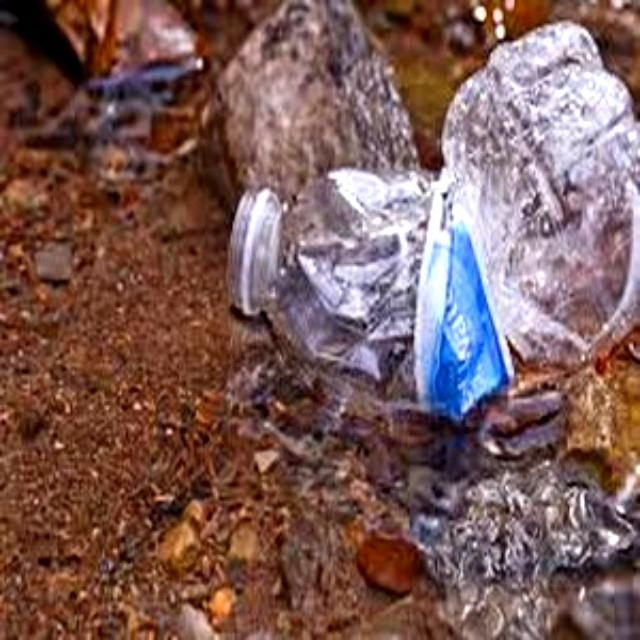Plastic: (235, 14, 640, 420)
